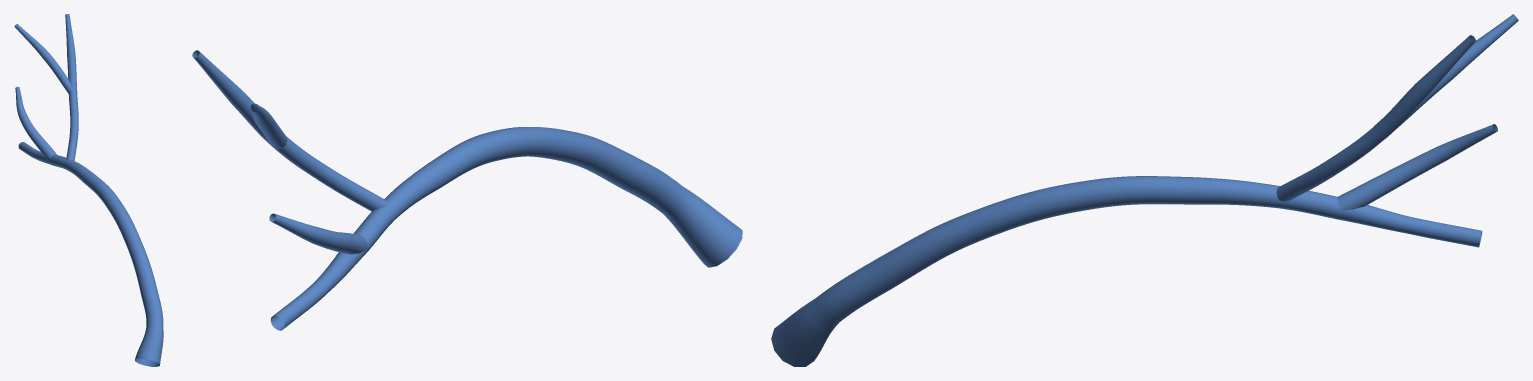
3 renders of one model, left to right at view 1: azimuth 30°, elevation 25°; view 2: azimuth 150°, elevation 25°; view 3: azimuth 270°, elevation 25°, orthographic. The views are drawn at different scales.
Parts seen in each view (by area): view 1: 左肺底下静脉; view 2: 左肺底下静脉; view 3: 左肺底下静脉.
Part boxes in pixels (x1,y1,x2,y2): 左肺底下静脉: (14, 14, 163, 366); 左肺底下静脉: (192, 50, 742, 330); 左肺底下静脉: (771, 14, 1518, 366).
Bounding box in the file's own units: 0.0402 × 0.0779 × 0.1278.
